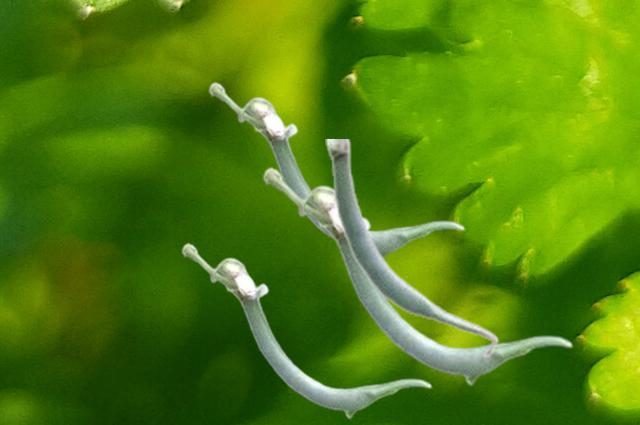french_bean: (262, 166, 572, 385), (208, 81, 464, 258), (181, 242, 431, 418), (325, 139, 498, 358)
